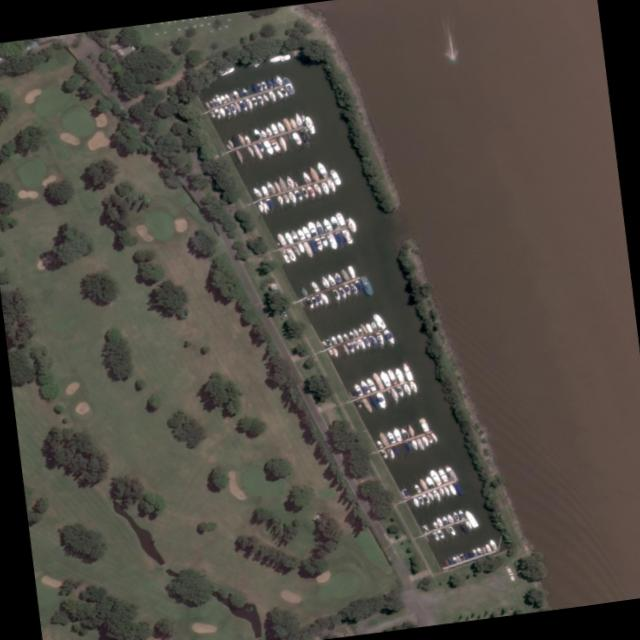ship: (358, 273, 375, 297), (281, 74, 298, 95), (378, 367, 395, 387), (302, 113, 318, 134), (371, 311, 389, 329), (442, 462, 459, 481), (371, 370, 387, 390), (464, 508, 480, 528), (401, 360, 416, 381), (360, 395, 376, 414), (428, 467, 444, 486), (374, 390, 389, 410), (289, 129, 306, 146), (382, 326, 398, 344), (340, 227, 356, 245), (268, 136, 284, 154), (376, 428, 391, 447), (328, 167, 343, 186), (325, 231, 340, 250), (320, 215, 336, 232), (392, 365, 407, 383), (417, 416, 432, 434), (436, 465, 451, 483), (345, 214, 360, 232), (251, 142, 266, 160), (315, 160, 330, 178), (386, 367, 400, 386), (367, 393, 382, 410), (261, 138, 276, 155), (285, 245, 299, 263), (307, 164, 321, 182), (302, 240, 315, 259), (452, 480, 467, 496), (328, 214, 343, 230), (274, 230, 289, 246), (306, 219, 320, 236), (334, 210, 348, 227), (333, 230, 347, 247), (218, 65, 237, 77), (358, 378, 372, 394), (365, 376, 379, 392), (325, 177, 339, 193), (391, 425, 404, 442), (276, 174, 289, 191), (277, 134, 289, 152), (251, 54, 266, 68), (338, 266, 352, 281), (264, 179, 278, 194), (233, 148, 246, 164), (312, 236, 325, 252), (284, 173, 297, 189), (300, 168, 313, 184), (251, 184, 265, 198), (367, 333, 380, 348), (374, 330, 387, 345), (345, 263, 358, 278), (431, 488, 444, 503), (417, 476, 430, 491), (324, 271, 337, 286), (319, 273, 332, 288), (281, 116, 294, 131), (282, 229, 295, 244), (288, 227, 301, 242), (300, 223, 313, 238), (389, 386, 401, 402), (293, 111, 305, 127), (355, 336, 368, 350), (336, 285, 349, 299), (352, 278, 365, 292), (424, 474, 437, 488), (332, 270, 345, 284), (305, 183, 318, 197), (312, 182, 325, 196), (353, 381, 365, 396), (348, 280, 360, 295), (385, 429, 397, 444), (415, 436, 427, 451), (320, 180, 332, 195), (264, 196, 276, 211), (287, 189, 299, 204), (314, 218, 325, 234), (308, 238, 319, 254), (237, 98, 250, 111), (402, 382, 414, 396), (408, 379, 420, 393), (319, 291, 331, 305), (447, 482, 459, 496), (399, 426, 411, 440), (288, 115, 300, 129), (295, 226, 307, 240), (290, 243, 302, 257), (403, 439, 414, 454), (268, 53, 284, 63), (358, 321, 370, 334), (267, 89, 279, 102), (259, 183, 271, 196), (299, 185, 311, 198), (341, 342, 352, 356), (245, 144, 256, 158), (406, 422, 416, 437), (350, 338, 362, 350), (421, 492, 433, 504), (252, 127, 264, 139), (293, 188, 305, 200), (362, 334, 373, 347), (346, 340, 357, 353), (305, 296, 316, 309), (331, 287, 342, 300), (459, 521, 470, 534), (386, 446, 397, 459), (269, 121, 280, 134), (276, 119, 287, 132), (319, 234, 330, 247), (310, 279, 321, 292), (488, 537, 499, 550), (330, 346, 341, 358), (314, 293, 325, 305), (442, 484, 453, 496), (434, 515, 445, 527), (420, 434, 431, 446), (429, 431, 440, 443), (278, 86, 290, 97), (395, 385, 405, 398), (343, 282, 353, 295), (256, 93, 266, 106), (229, 102, 239, 115), (299, 284, 309, 297), (272, 179, 282, 192), (392, 443, 401, 457), (245, 96, 254, 110), (447, 525, 458, 536), (275, 88, 286, 99), (370, 319, 380, 331), (233, 100, 243, 112), (236, 132, 246, 144), (223, 104, 233, 116), (213, 107, 223, 119), (236, 85, 246, 97), (270, 75, 280, 87), (296, 241, 306, 253), (279, 52, 292, 61), (310, 295, 320, 306), (329, 334, 340, 344), (364, 321, 374, 332), (440, 514, 450, 525), (431, 530, 441, 541), (413, 482, 423, 493), (264, 125, 274, 136), (245, 83, 255, 94), (260, 79, 270, 90), (265, 77, 275, 88), (351, 325, 360, 337), (257, 140, 266, 152), (282, 191, 291, 203), (354, 398, 364, 408), (324, 336, 334, 346), (335, 332, 345, 342), (436, 528, 446, 538), (426, 490, 436, 500), (425, 433, 435, 443), (251, 82, 261, 92), (282, 253, 292, 263), (376, 437, 385, 448), (446, 512, 455, 523), (452, 510, 461, 521), (457, 508, 466, 519), (380, 448, 389, 459), (410, 438, 419, 449), (417, 494, 426, 505), (250, 95, 259, 106), (243, 133, 252, 144), (211, 95, 220, 106), (256, 80, 265, 91), (275, 74, 284, 85), (412, 496, 420, 508), (342, 331, 351, 341), (421, 522, 431, 531), (484, 542, 493, 552), (227, 138, 236, 148), (259, 127, 268, 137), (215, 95, 225, 104), (220, 93, 229, 103), (232, 88, 241, 98), (438, 486, 446, 497), (347, 329, 356, 338), (357, 326, 366, 335), (458, 552, 467, 561), (223, 92, 232, 101), (228, 91, 237, 100), (241, 86, 250, 95), (327, 346, 335, 356), (262, 92, 270, 102), (219, 106, 226, 117), (277, 194, 284, 205), (432, 519, 440, 528), (465, 519, 473, 528), (204, 100, 212, 109), (208, 98, 216, 107), (476, 545, 483, 555), (208, 109, 216, 117), (472, 547, 479, 556), (481, 545, 488, 554), (443, 558, 450, 566), (447, 556, 454, 564), (452, 555, 459, 563), (455, 554, 462, 562)
small-vehicle: (280, 313, 288, 320), (279, 310, 286, 315)
